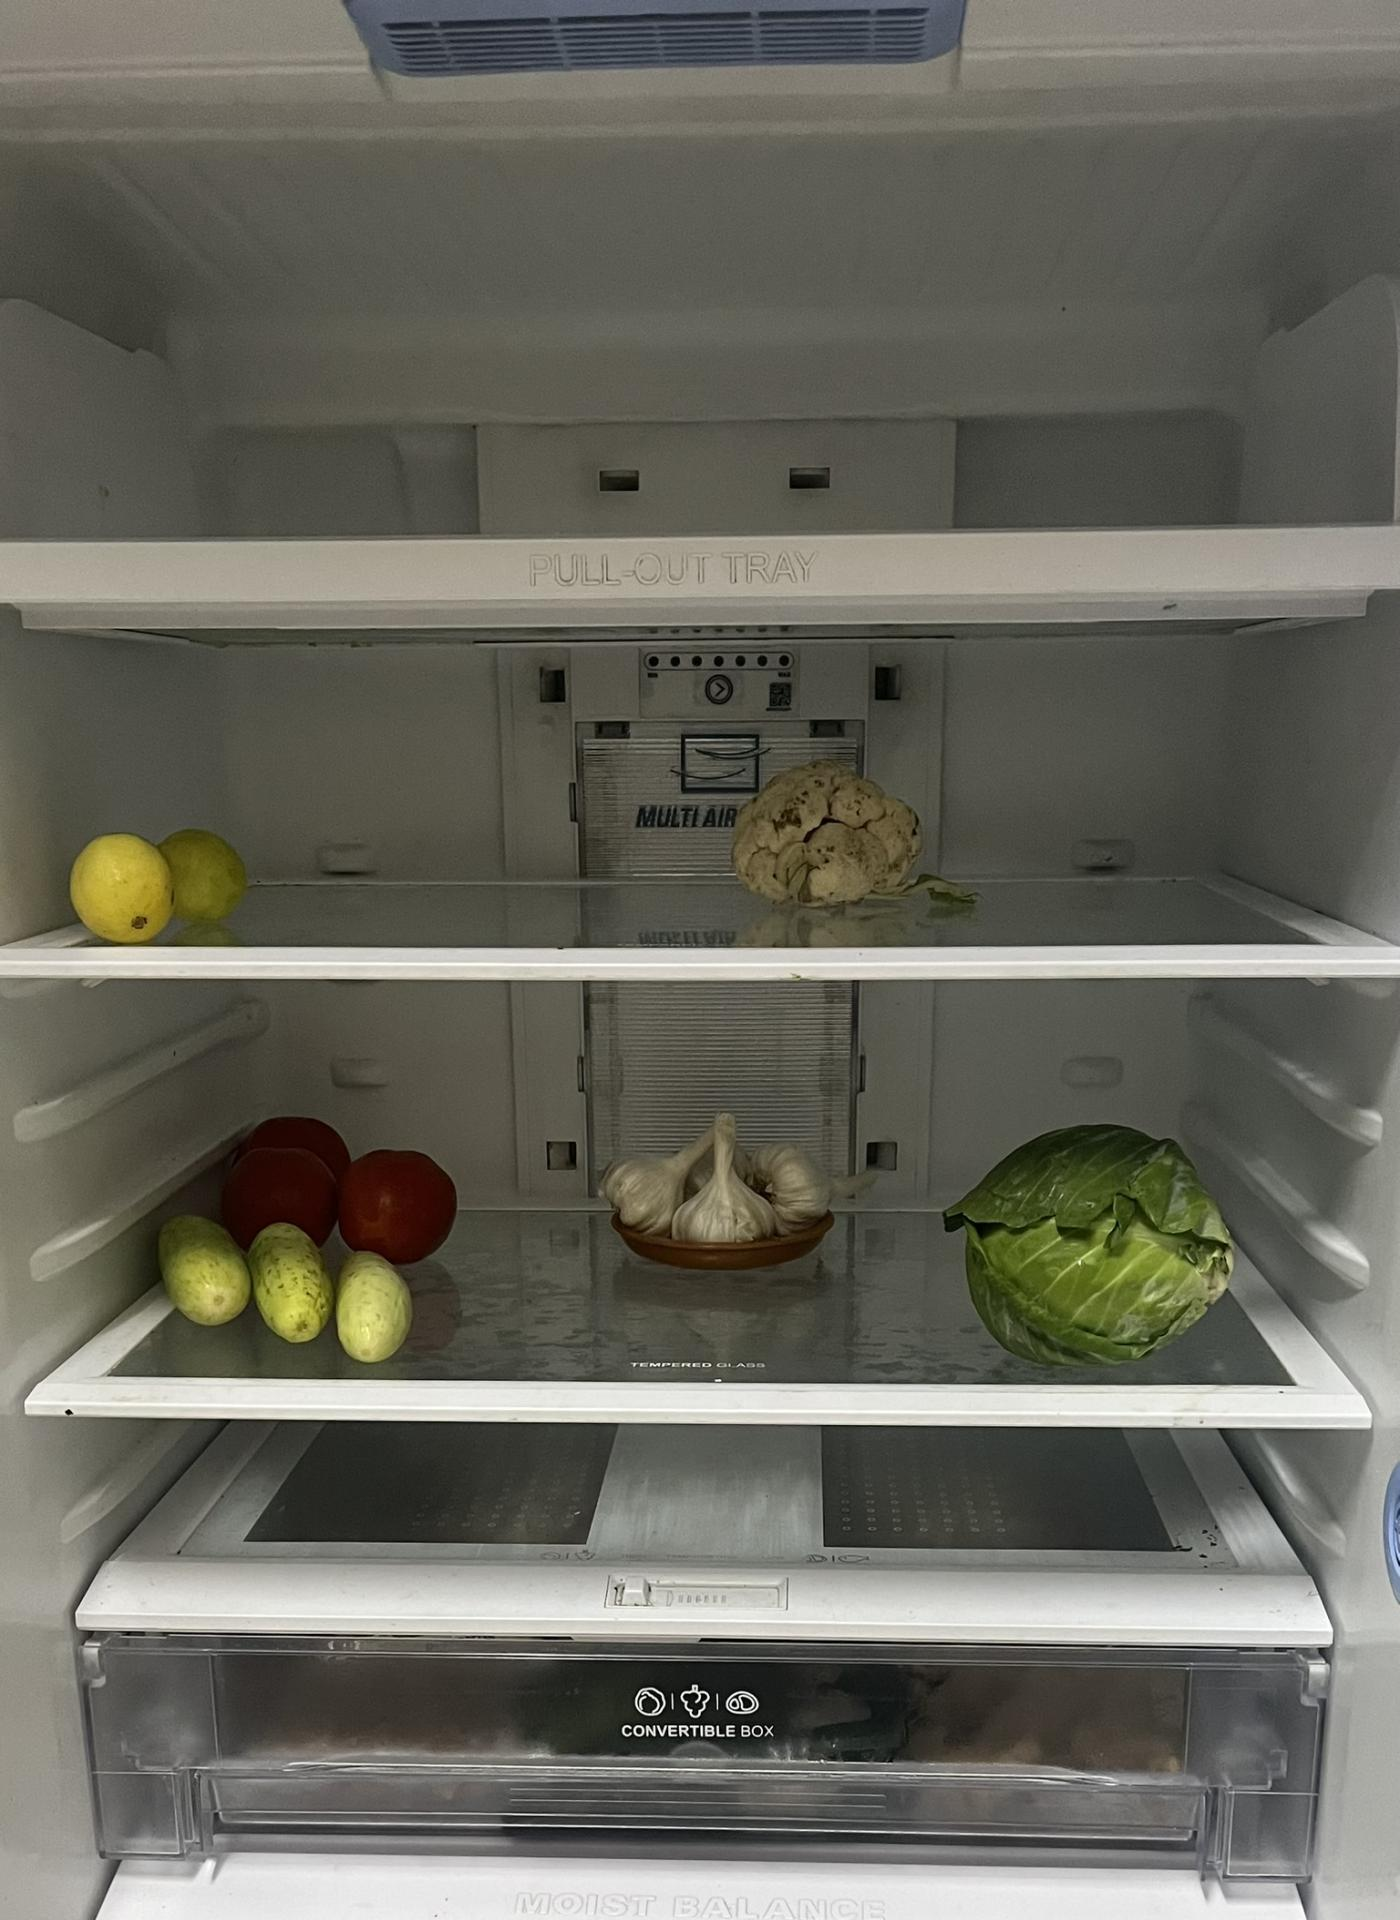cabbage: (951, 1122, 1233, 1362)
cauliflower: (722, 757, 923, 906)
cucumber: (155, 1213, 410, 1367), (210, 1105, 462, 1254)
garlic: (604, 1109, 850, 1252)
lemon: (73, 826, 246, 945)
